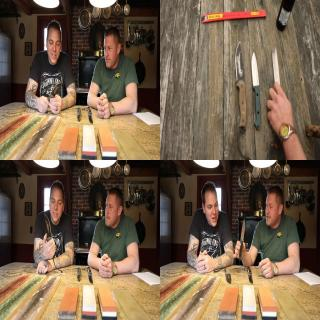knife: (266, 38, 292, 108), (233, 36, 247, 94), (249, 47, 262, 97), (42, 80, 64, 108), (42, 210, 58, 248), (233, 216, 247, 258)
